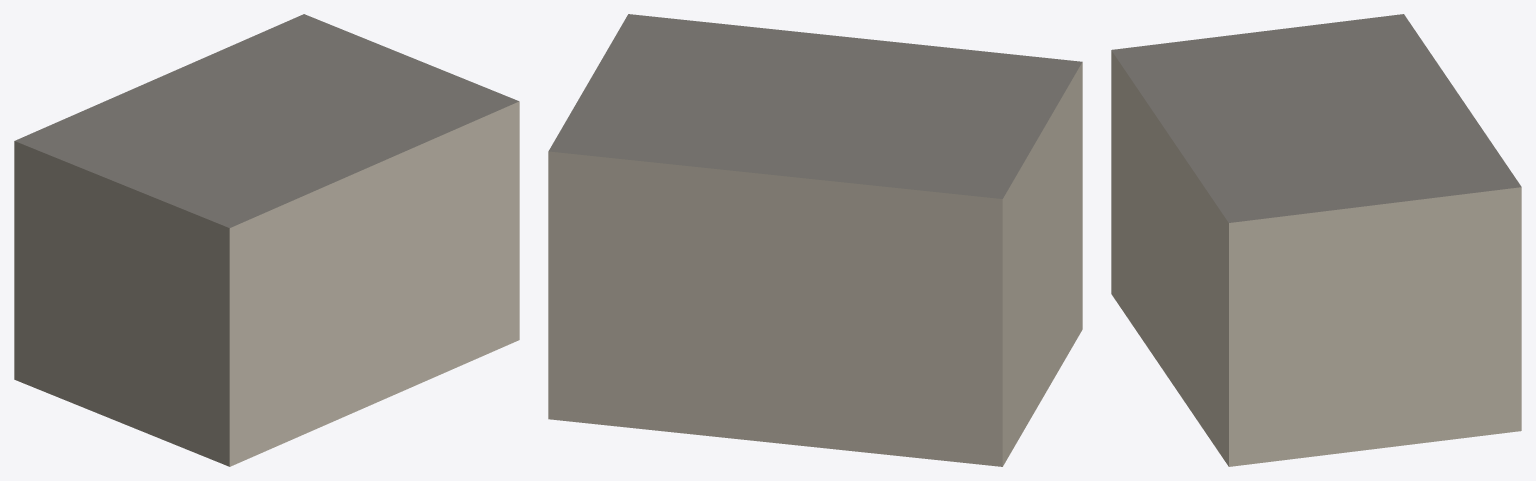
3 renders of one model, left to right at view 1: azimuth 30°, elevation 25°; view 2: azimuth 150°, elevation 25°; view 3: azimuth 270°, elevation 25°, orthographic. The views are drawn at different scales.
Visible parts, largest first — view 1: HP-w446936785; view 2: HP-w446936785; view 3: HP-w446936785.
Part boxes in pixels (left/top/right/bottom): HP-w446936785: left=14, top=14, right=519, bottom=466; HP-w446936785: left=548, top=14, right=1082, bottom=466; HP-w446936785: left=1111, top=14, right=1521, bottom=466.
Bounding box in the file's own units: 33.09 × 18 × 27.46.
